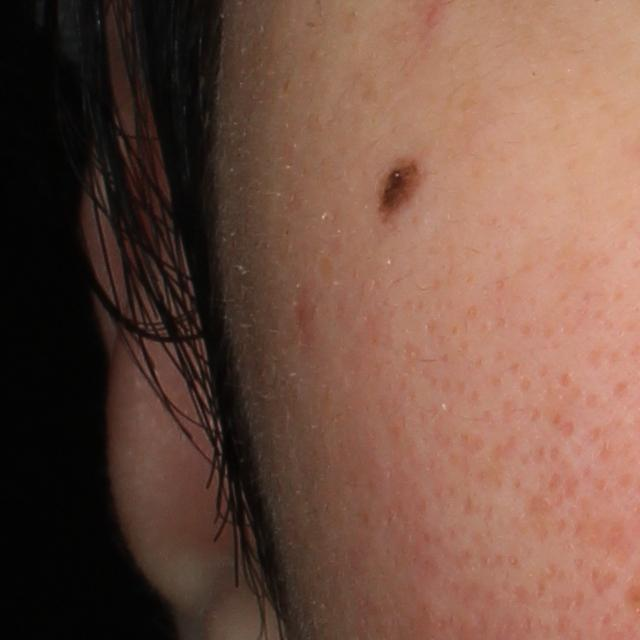nevus: (372, 157, 427, 221)
